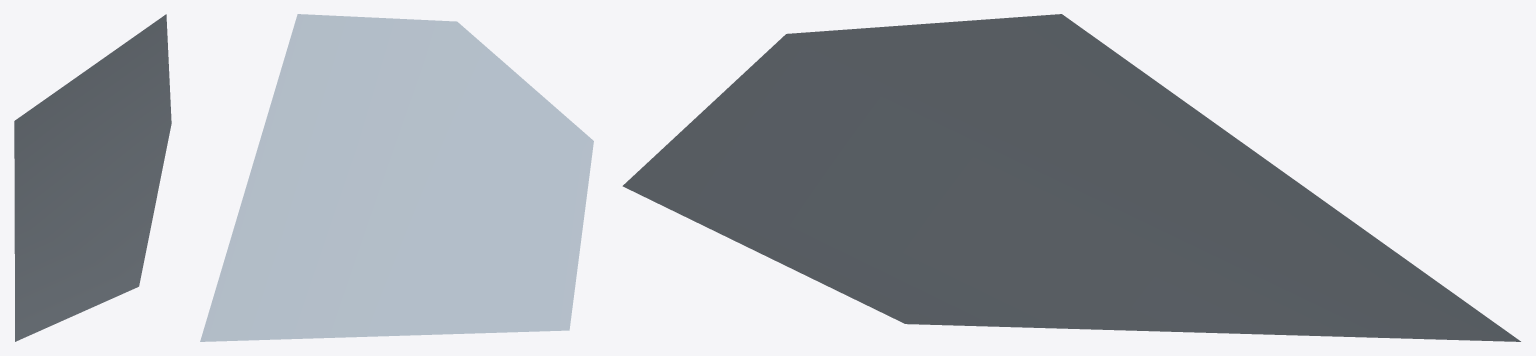
Rendered from articular-disc-of-sternoclavicular-joint-r.glb.
3 views of the same model, side by side, from view 1: azimuth 30°, elevation 25°; view 2: azimuth 150°, elevation 25°; view 3: azimuth 270°, elevation 25° (orthographic). The views are drawn at different scales.
Parts seen in each view (by area): view 1: Articular disc of sternoclavicular joint.r; view 2: Articular disc of sternoclavicular joint.r; view 3: Articular disc of sternoclavicular joint.r.
Part boxes in pixels (box(x1,y1,x2,y2)): Articular disc of sternoclavicular joint.r: box(14, 14, 171, 341); Articular disc of sternoclavicular joint.r: box(200, 14, 593, 341); Articular disc of sternoclavicular joint.r: box(622, 14, 1520, 341).
Size of the model in its own units: 0.0189 by 0.0238 by 0.0394.
